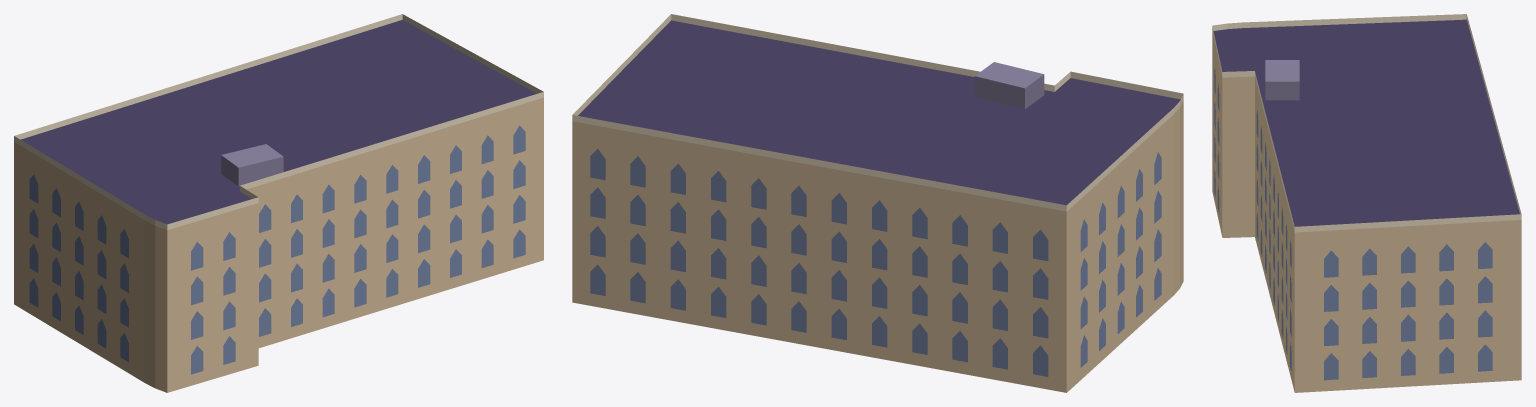
File: b-073-biotron-day.glb
3 views of the same model, side by side, from view 1: azimuth 30°, elevation 25°; view 2: azimuth 150°, elevation 25°; view 3: azimuth 270°, elevation 25° (orthographic). The views are drawn at different scales.
Parts seen in each view (by area): view 1: campus/b-073-biotron-day-0; view 2: campus/b-073-biotron-day-0; view 3: campus/b-073-biotron-day-0.
Boxes of the visible parts, x1,y1,x2,y2 form: campus/b-073-biotron-day-0: (14,14,543,392); campus/b-073-biotron-day-0: (572,14,1183,392); campus/b-073-biotron-day-0: (1212,14,1521,392).
Size of the model in its own units: 44.1 by 17.3 by 27.07.
